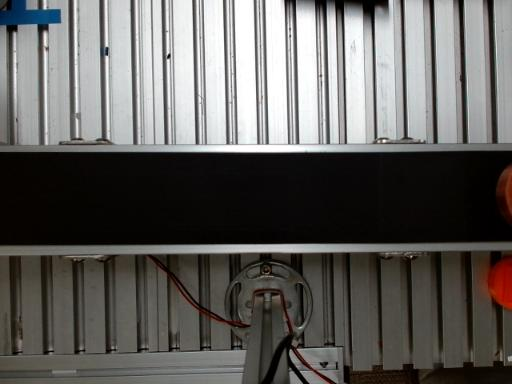Brown_Waper: (497, 164, 511, 226)
